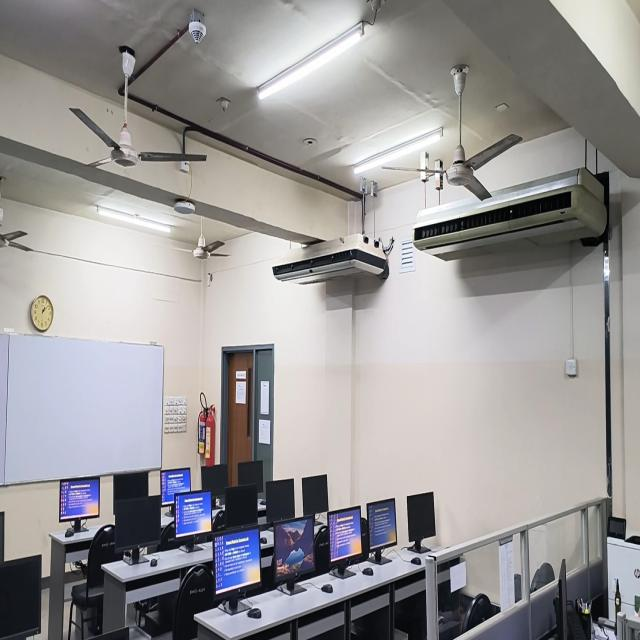Ac: (413, 168, 608, 260), (272, 233, 394, 284)
Chair: (71, 526, 123, 634), (173, 565, 213, 639), (461, 593, 496, 633), (530, 562, 555, 593)
Fire Extinguisher: (198, 392, 216, 465), (206, 405, 216, 466)
Light: (256, 21, 374, 100), (353, 127, 443, 174), (96, 206, 172, 233)
Monitor: (0, 556, 41, 639), (115, 496, 161, 565), (213, 528, 260, 595), (273, 517, 315, 581), (59, 478, 100, 535), (367, 498, 397, 564), (407, 492, 436, 553), (174, 491, 212, 537), (329, 507, 360, 562), (113, 472, 148, 514), (226, 484, 257, 527), (265, 479, 295, 522), (160, 468, 191, 506), (302, 474, 328, 516), (201, 463, 228, 499), (238, 460, 263, 492)
Mouse: (247, 607, 261, 619), (321, 584, 333, 593), (65, 526, 74, 537), (362, 568, 373, 576), (410, 558, 421, 564), (151, 558, 157, 567)
